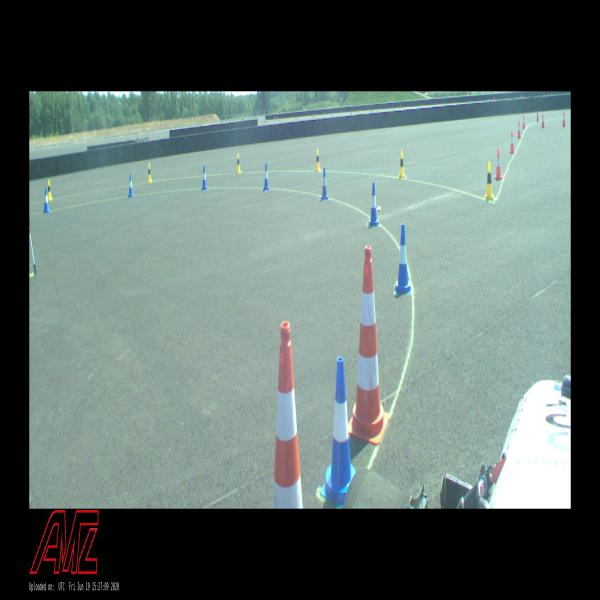blue_cone: (320, 358, 356, 508), (395, 224, 411, 294), (369, 182, 379, 226), (320, 168, 329, 200), (263, 164, 270, 190), (43, 188, 50, 212), (128, 174, 134, 198), (202, 166, 207, 190)
large_orange_cone: (348, 246, 390, 445), (273, 322, 303, 509)
orange_cone: (495, 149, 502, 180), (509, 131, 515, 154), (517, 122, 521, 138), (562, 112, 566, 127), (522, 114, 525, 129), (542, 113, 544, 128)
unknown_cone: (536, 112, 538, 122)
yellow_cone: (485, 162, 494, 200), (399, 150, 405, 178), (315, 148, 321, 172), (236, 152, 241, 172), (48, 180, 52, 200), (148, 163, 152, 182)
